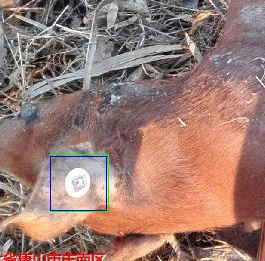text: (50, 154, 108, 211)
